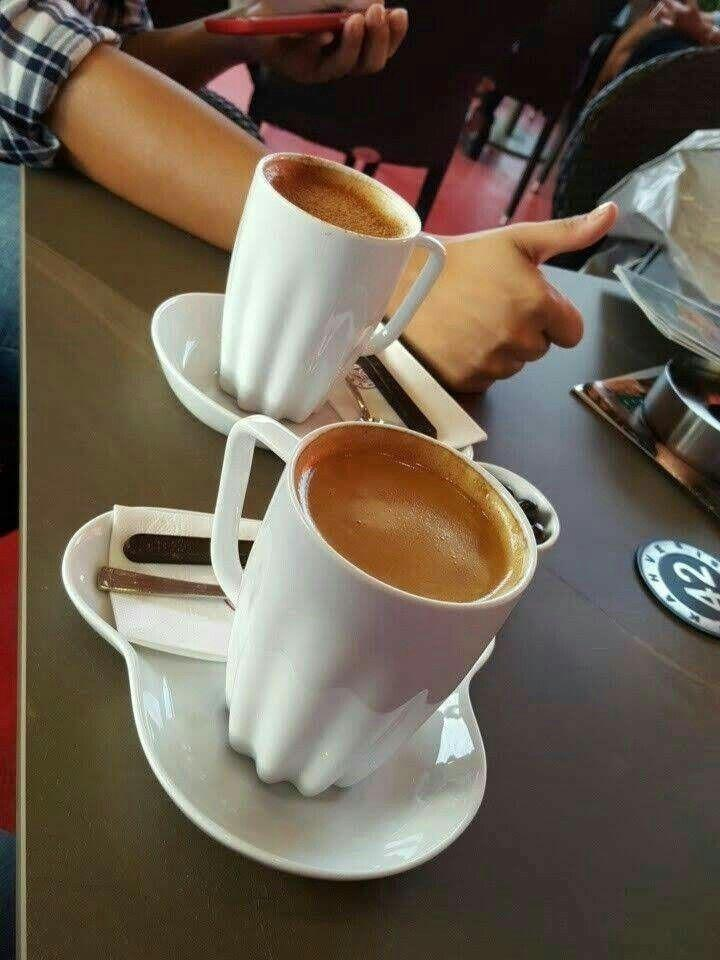cup-handle: (210, 414, 542, 798), (215, 152, 448, 422)
